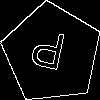P: (26, 28, 68, 80)
